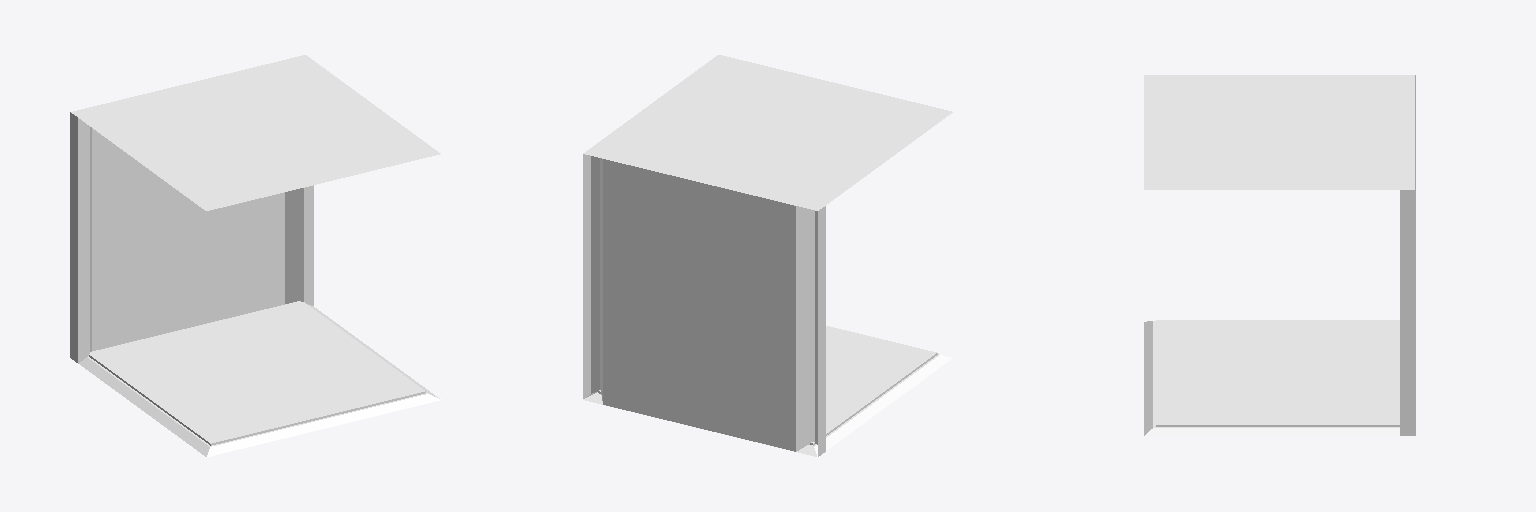
Rendered from Metal.obj.
The picture shows the model from 3 angles: view 1: azimuth 30°, elevation 25°; view 2: azimuth 150°, elevation 25°; view 3: azimuth 270°, elevation 25°; orthographic projection.
Visible parts, largest first — view 1: wall1, floor, ceiling; view 2: wall1, ceiling, floor; view 3: ceiling, floor, wall1.
Part boxes in pixels (x1,y1,x2,y2): wall1: (70, 61, 313, 363); floor: (79, 301, 440, 456); ceiling: (71, 55, 440, 210); wall1: (583, 152, 825, 456); ceiling: (583, 55, 952, 210); floor: (583, 326, 952, 456); ceiling: (1144, 75, 1414, 189); floor: (1144, 320, 1415, 436); wall1: (1400, 75, 1415, 435).
Size of the model in its own units: 2.54 by 2.54 by 2.55.